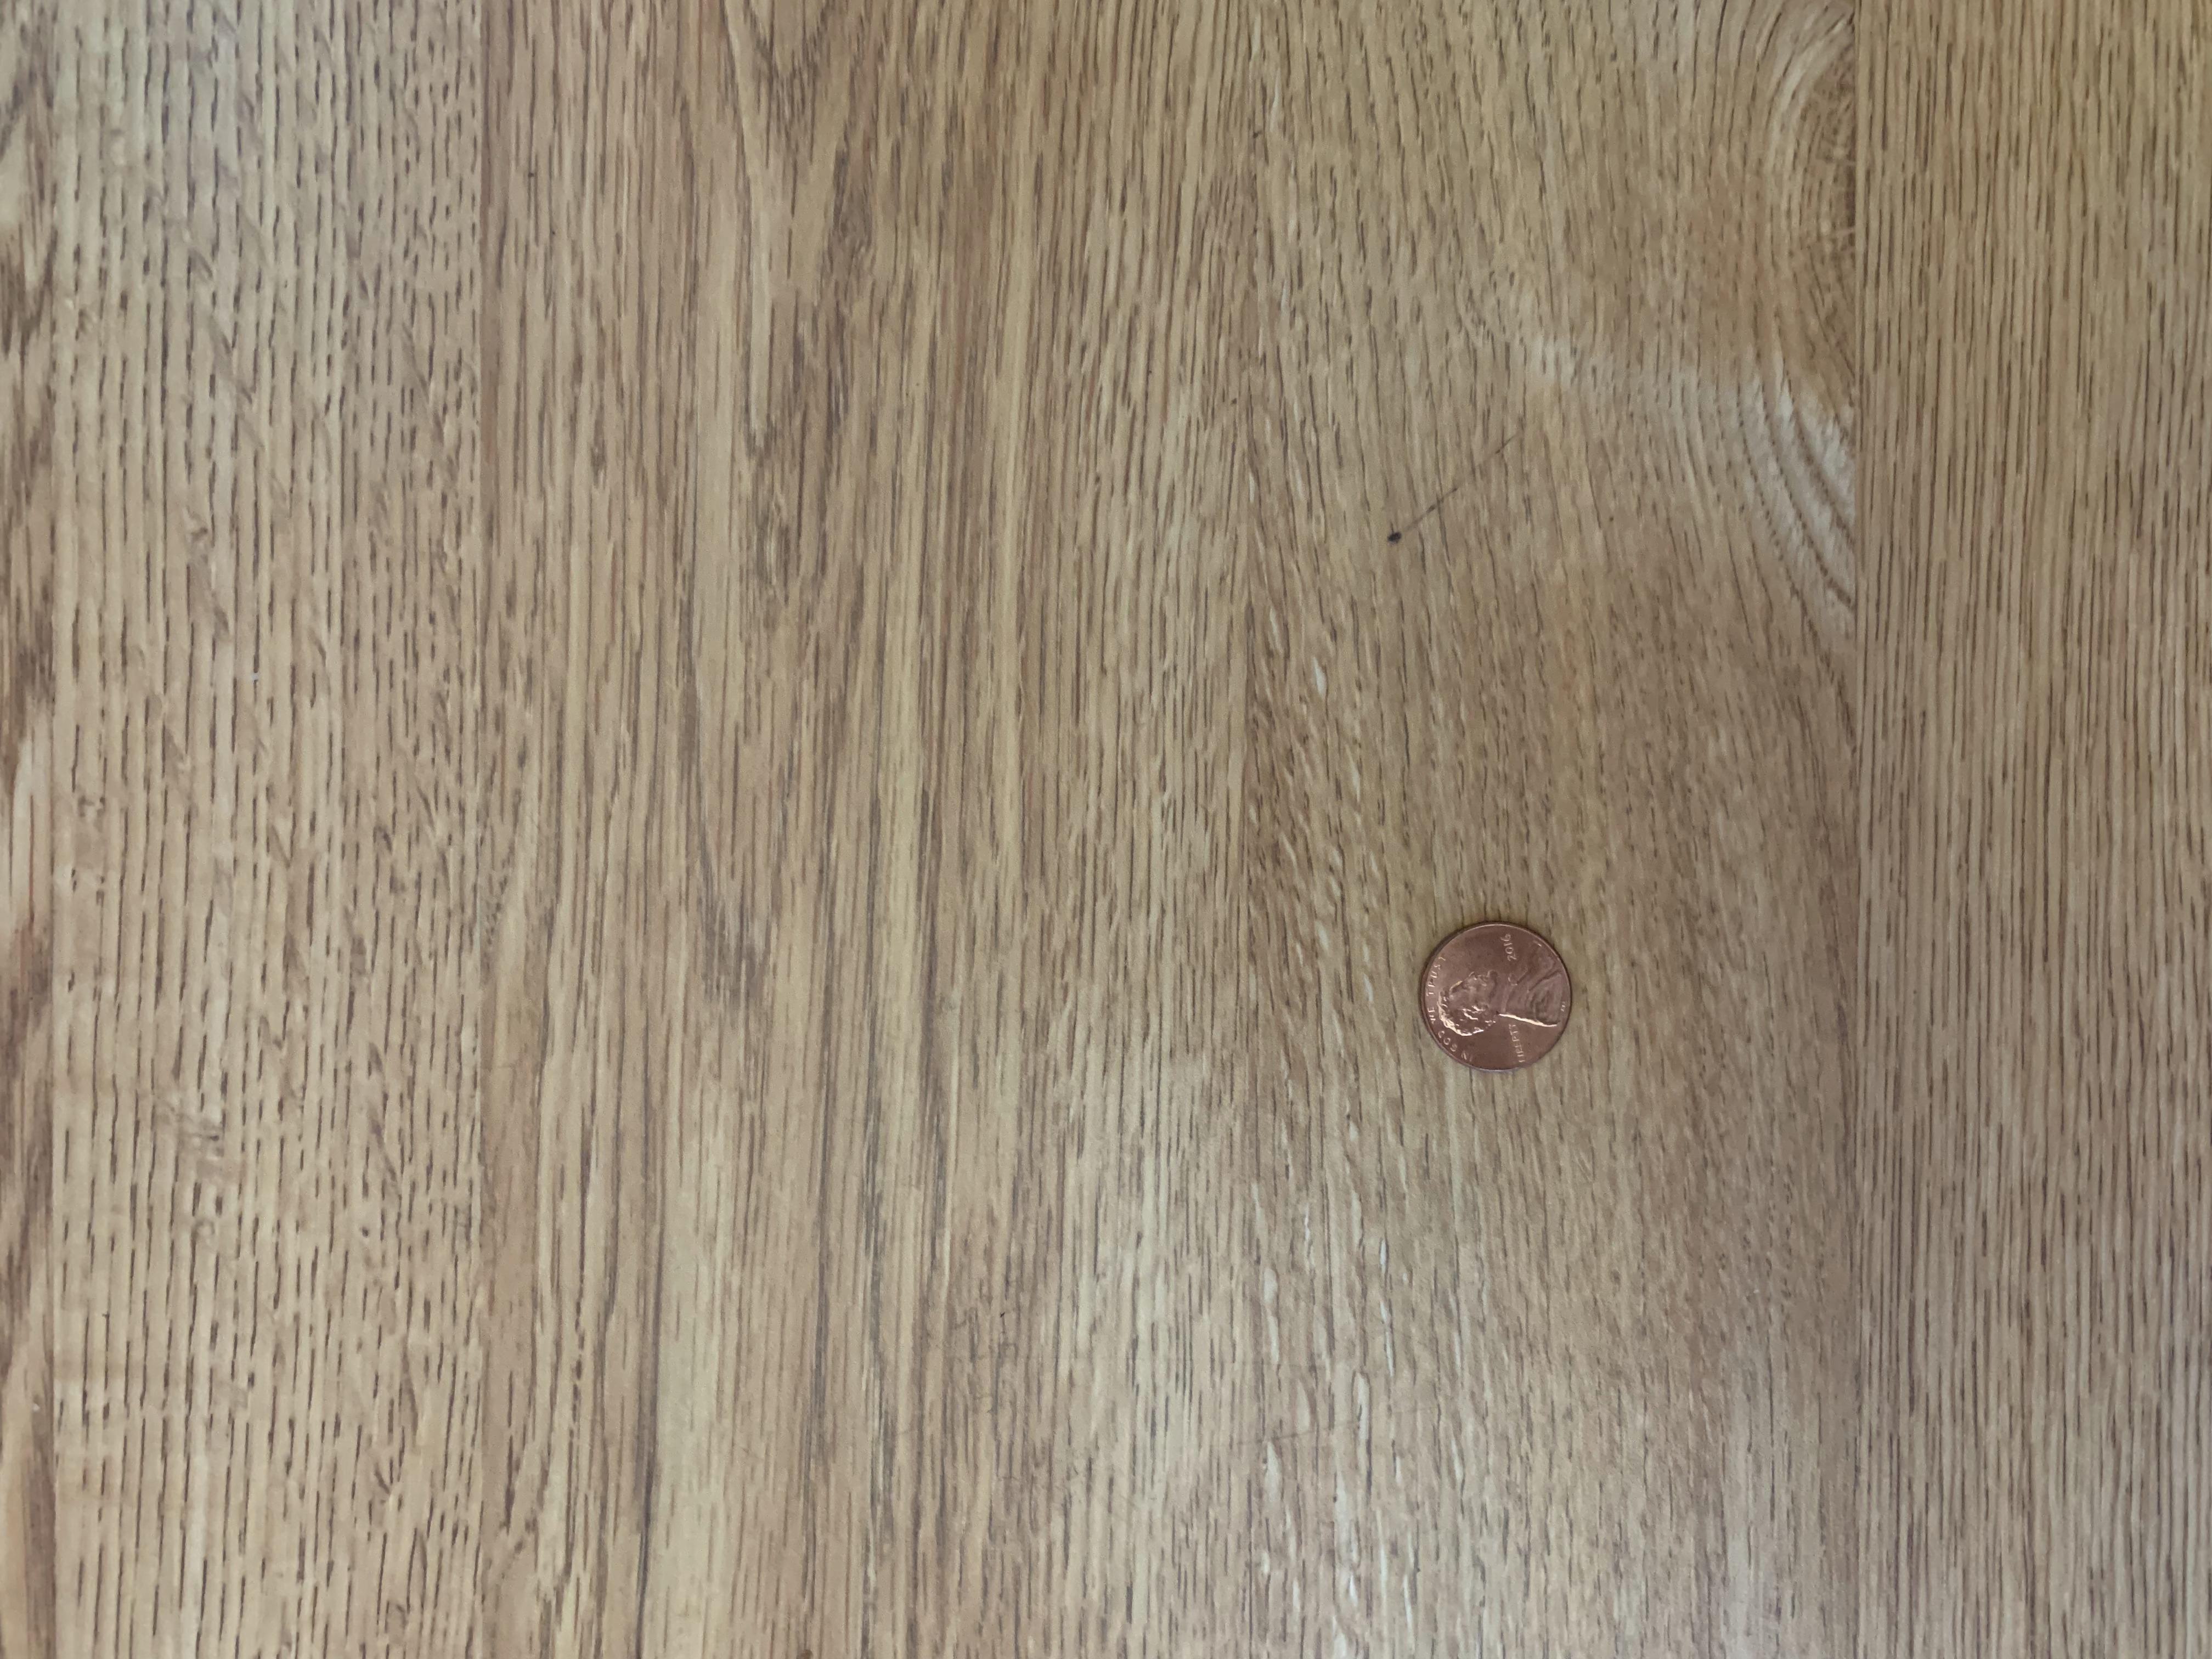Penny: (1414, 918, 1585, 1075)
